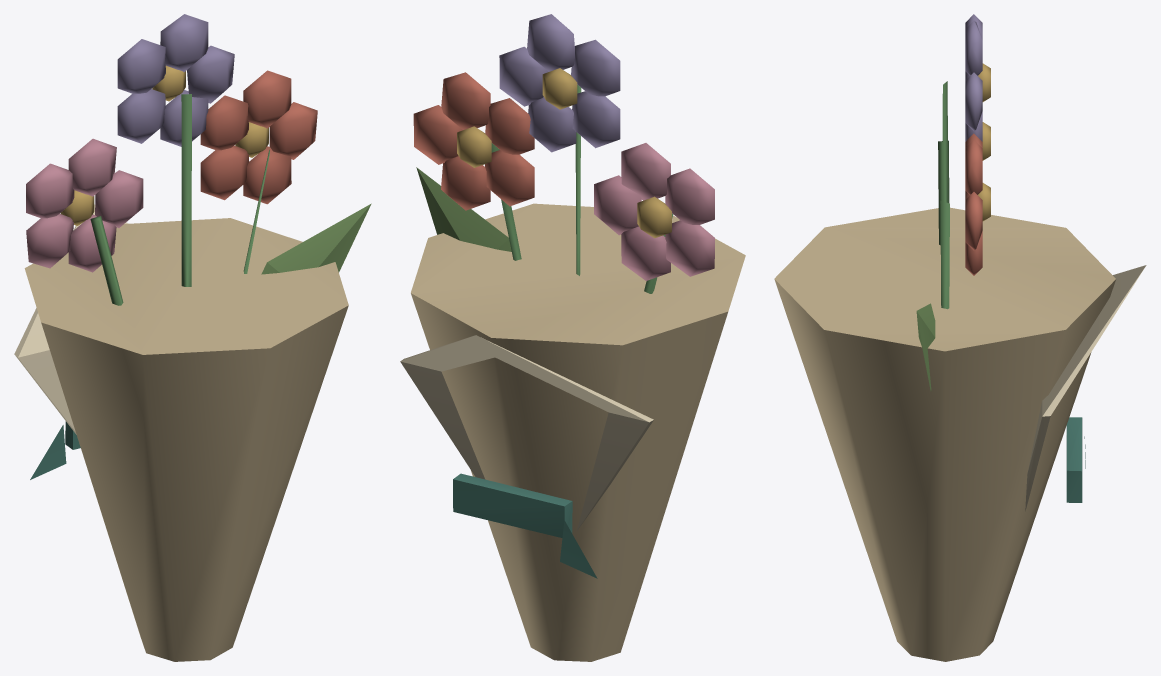
File: bouquet_low.glb
The picture shows the model from 3 angles, left to right: view 1: azimuth 30°, elevation 25°; view 2: azimuth 150°, elevation 25°; view 3: azimuth 270°, elevation 25°; orthographic projection. The views are drawn at different scales.
Size of the model in its own units: 0.26 by 0.4821 by 0.2595.
